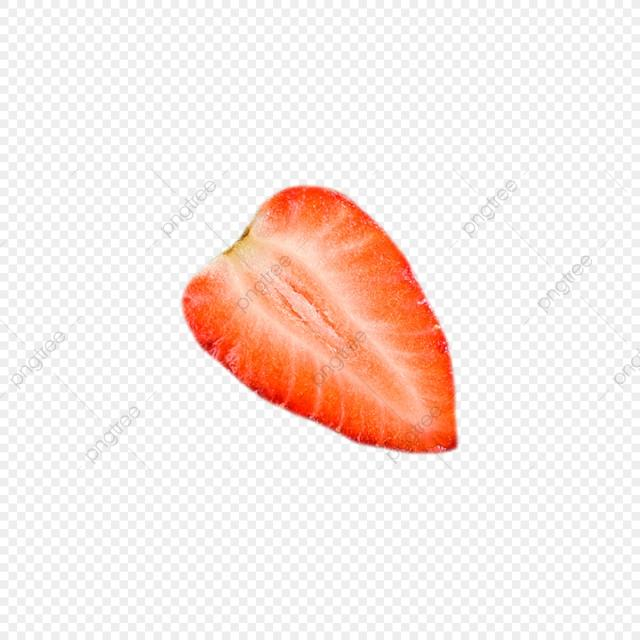strawberry: (159, 140, 490, 470)
